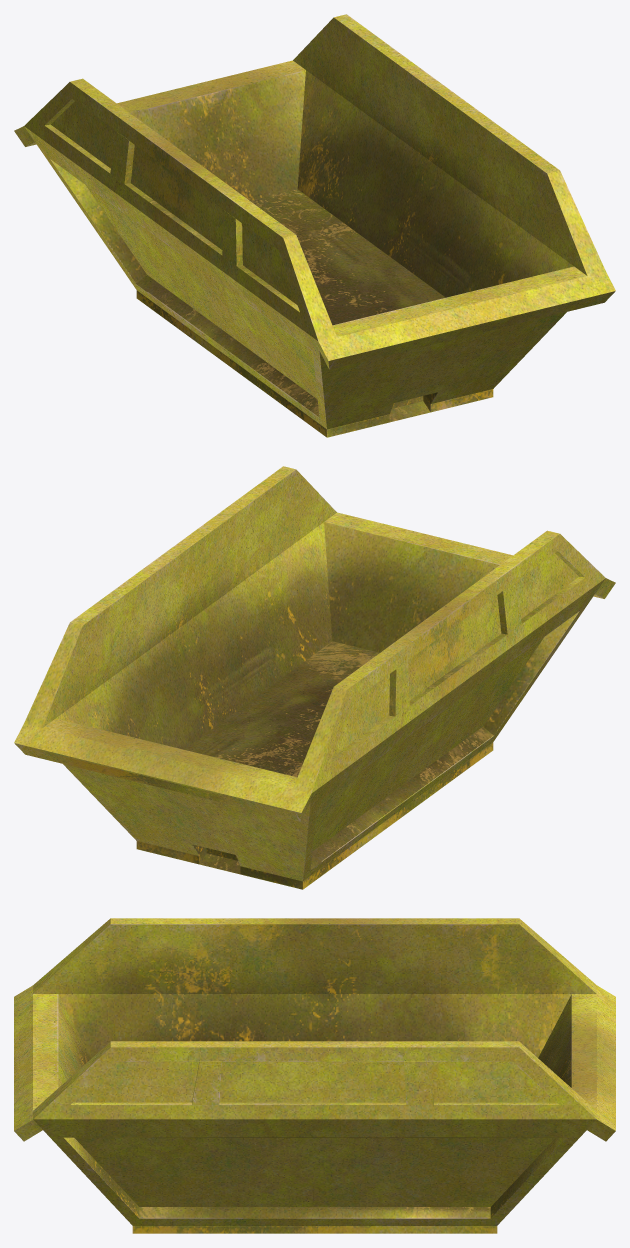
File: new skip.fbx
The picture shows the model from 3 angles, top to bottom: view 1: azimuth 30°, elevation 25°; view 2: azimuth 150°, elevation 25°; view 3: azimuth 270°, elevation 25°; orthographic projection. The views are drawn at different scales.
Parts seen in each view (by area): view 1: Box001; view 2: Box001; view 3: Box001.
Part boxes in pixels (left/top/right/bottom): Box001: left=14, top=14, right=615, bottom=437; Box001: left=14, top=466, right=615, bottom=889; Box001: left=14, top=918, right=615, bottom=1233.
Size of the model in its own units: 105 by 77.48 by 199.
